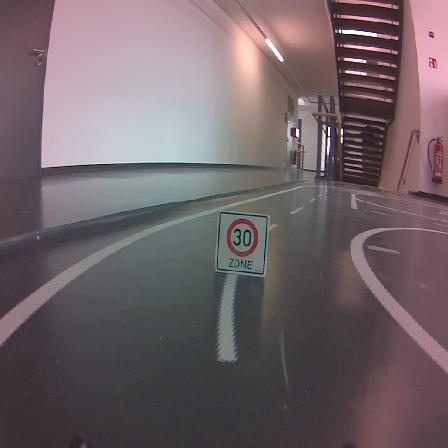30_ZONE_BEGIN: (215, 211, 270, 277)
